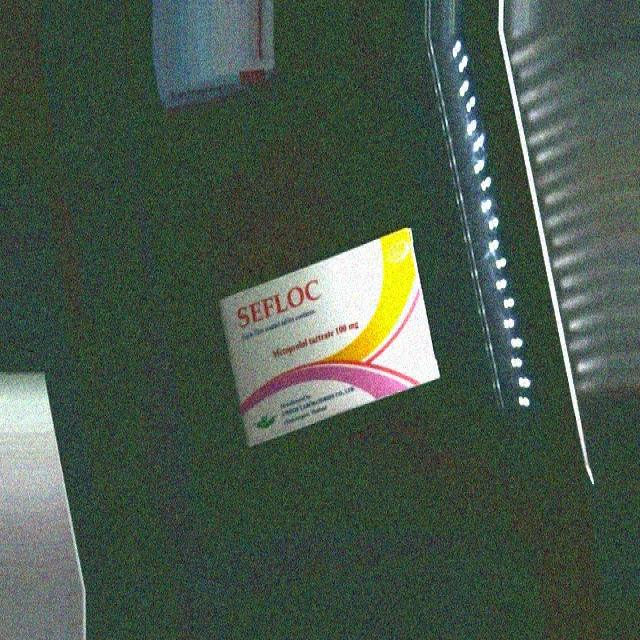medicine_name_detection: (217, 227, 438, 443)
